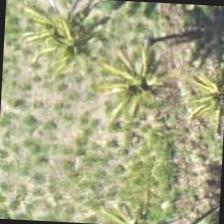Kelapa_Sawit: (94, 36, 189, 131), (12, 0, 106, 67), (95, 176, 189, 223), (176, 34, 223, 128)
